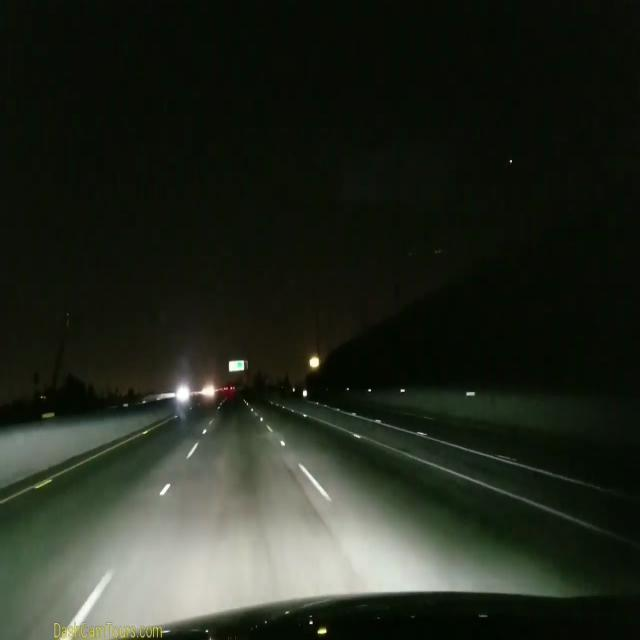street-signs: (229, 359, 245, 372)
